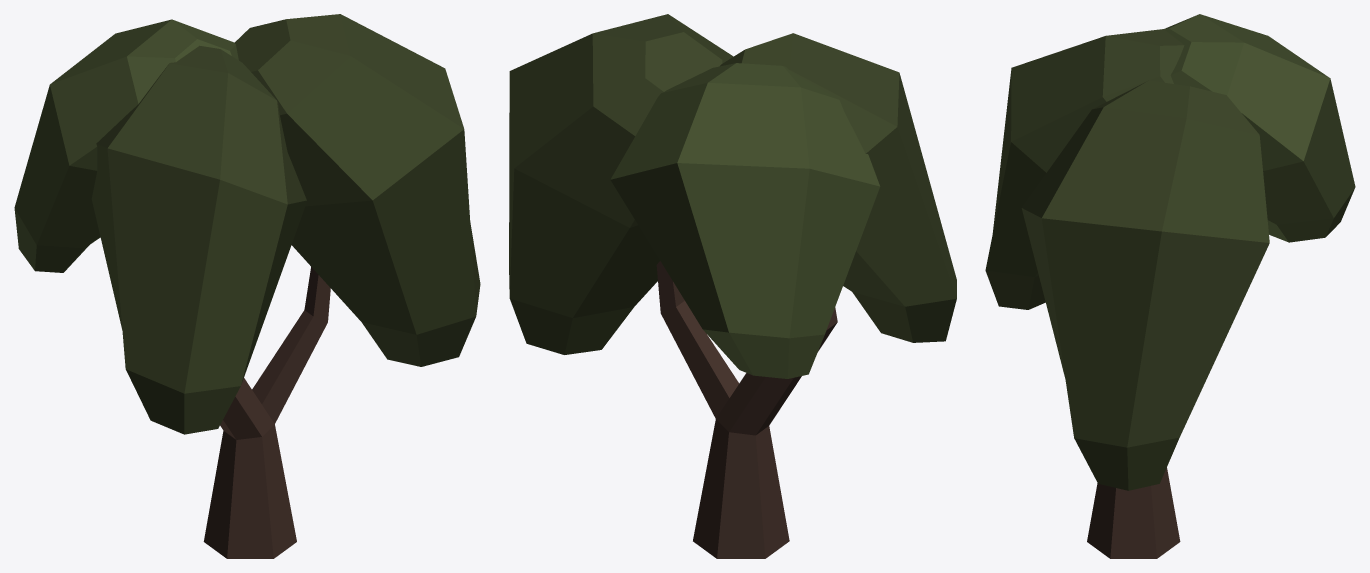
Rendered from Tree Type6 01.glb.
The picture shows the model from 3 angles, left to right: view 1: azimuth 30°, elevation 25°; view 2: azimuth 150°, elevation 25°; view 3: azimuth 270°, elevation 25°; orthographic projection. The views are drawn at different scales.
Visible parts, largest first — view 1: Tree_Type6_01_mesh; view 2: Tree_Type6_01_mesh; view 3: Tree_Type6_01_mesh.
Boxes of the visible parts, x1,y1,x2,y2 form: Tree_Type6_01_mesh: [14, 14, 480, 558]; Tree_Type6_01_mesh: [509, 14, 956, 558]; Tree_Type6_01_mesh: [985, 14, 1355, 558].
Size of the model in its own units: 1.12 by 1.33 by 0.9164.
Materials: 1 (1 with a texture image).
